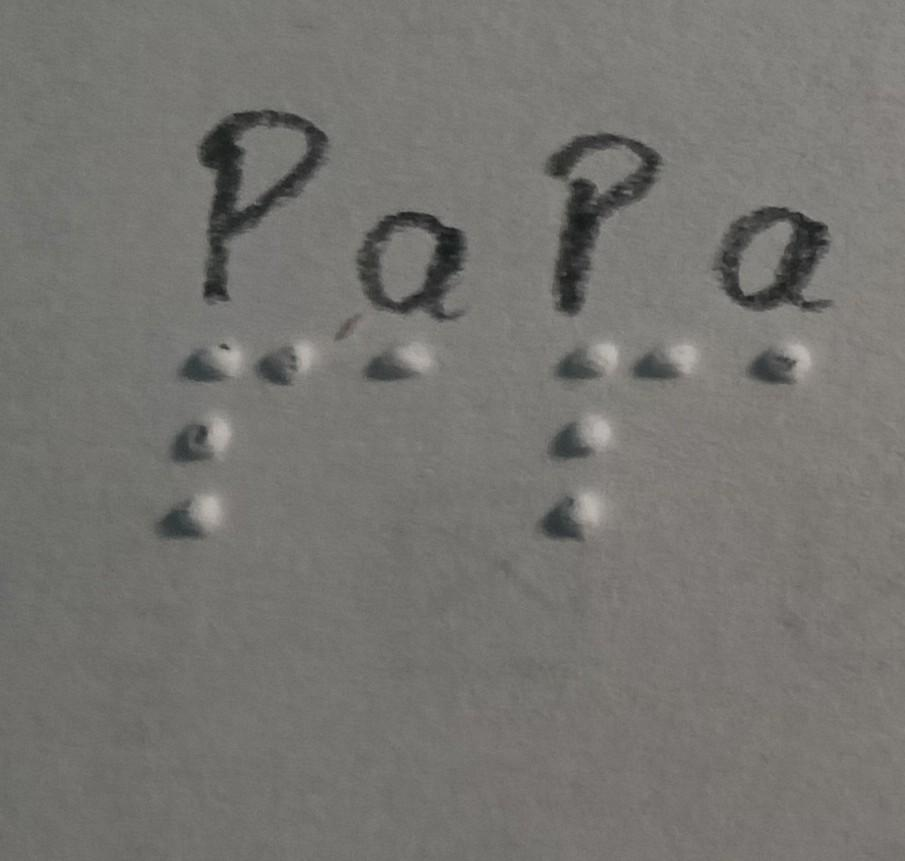a: (326, 314, 458, 434), (700, 320, 844, 402)
p: (510, 320, 702, 576), (142, 314, 322, 552)
